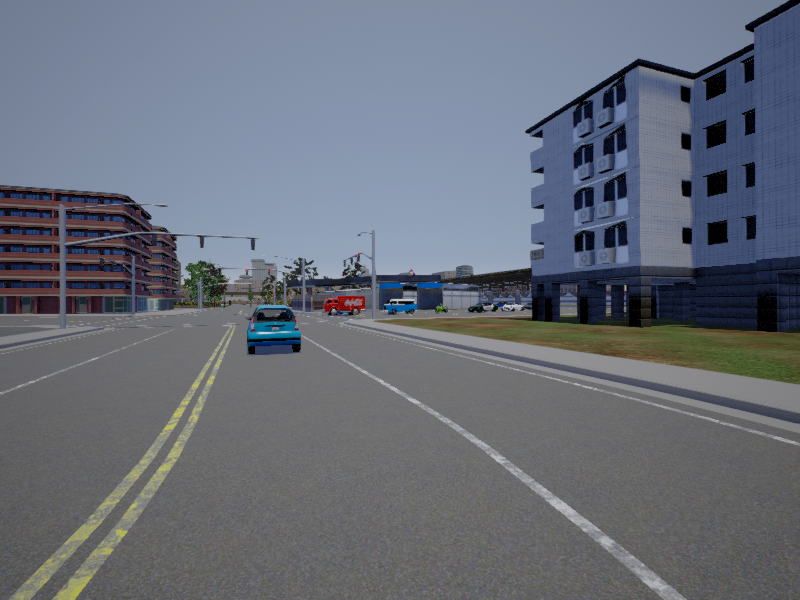Benign: (245, 308, 301, 354), (322, 294, 367, 318), (386, 300, 416, 316), (466, 301, 500, 313)
